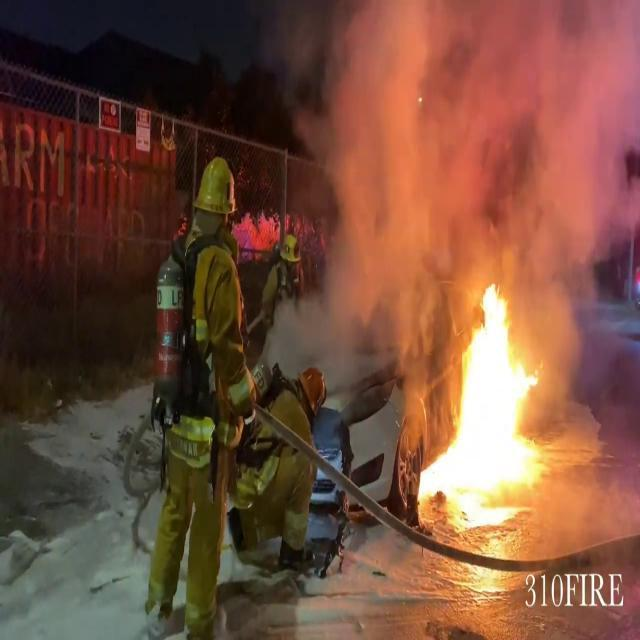Fire: (417, 277, 555, 506)
Smoke: (275, 1, 640, 342)
